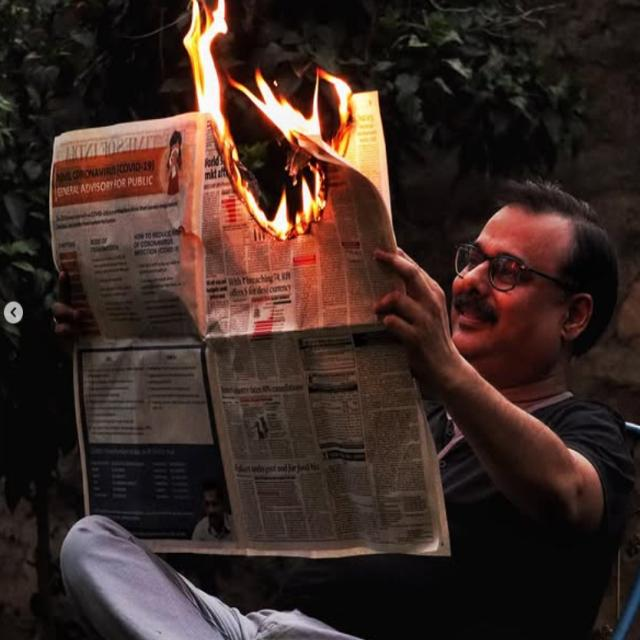fire: (183, 0, 352, 243), (228, 68, 319, 152)
